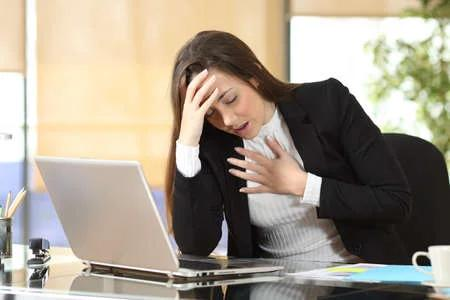pain: (200, 84, 244, 120)
